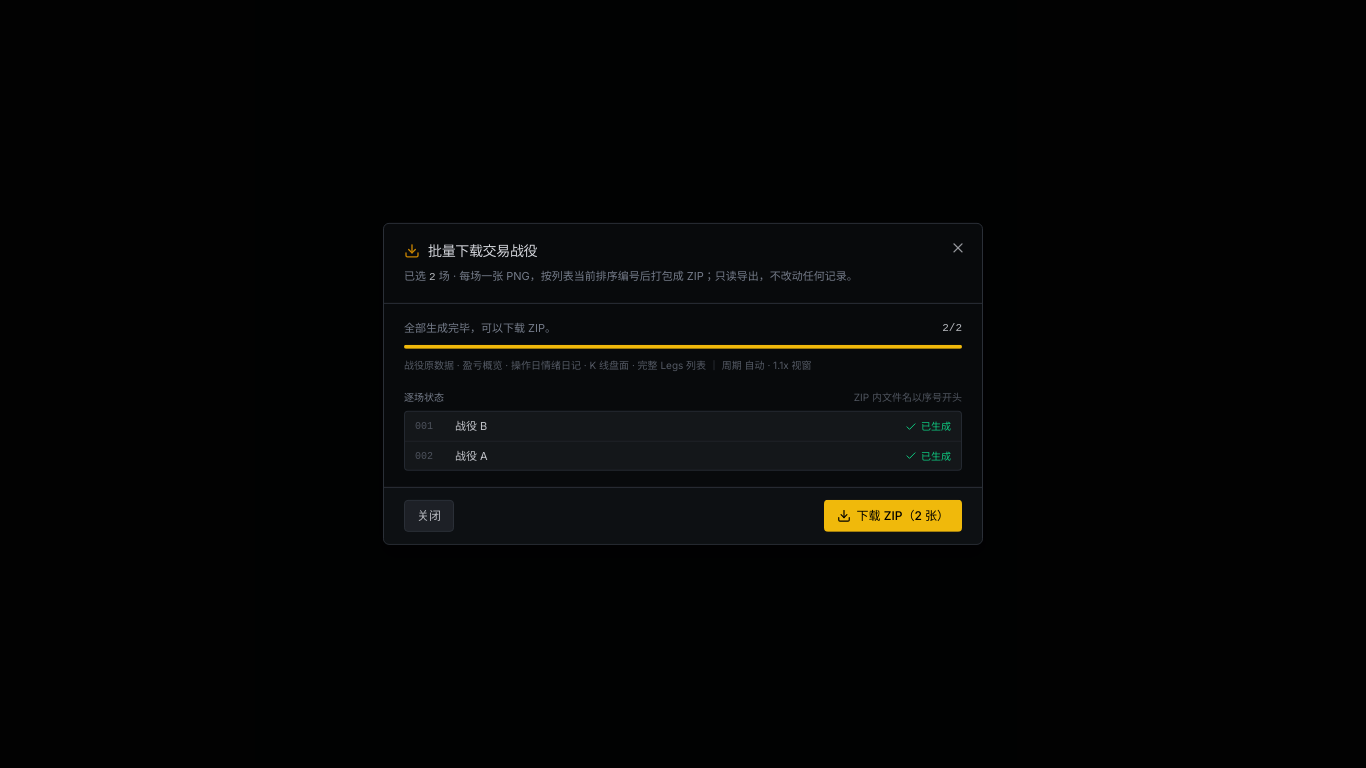
批量下载队列 › 取消打包不会发起下载，图片仍可再次下载
The image size is (1366, 768).
Earlier steps of the test are not shown.
Click the button "下载 ZIP（2 张）": coordinates (893, 516) left=824, top=500, right=962, bottom=532
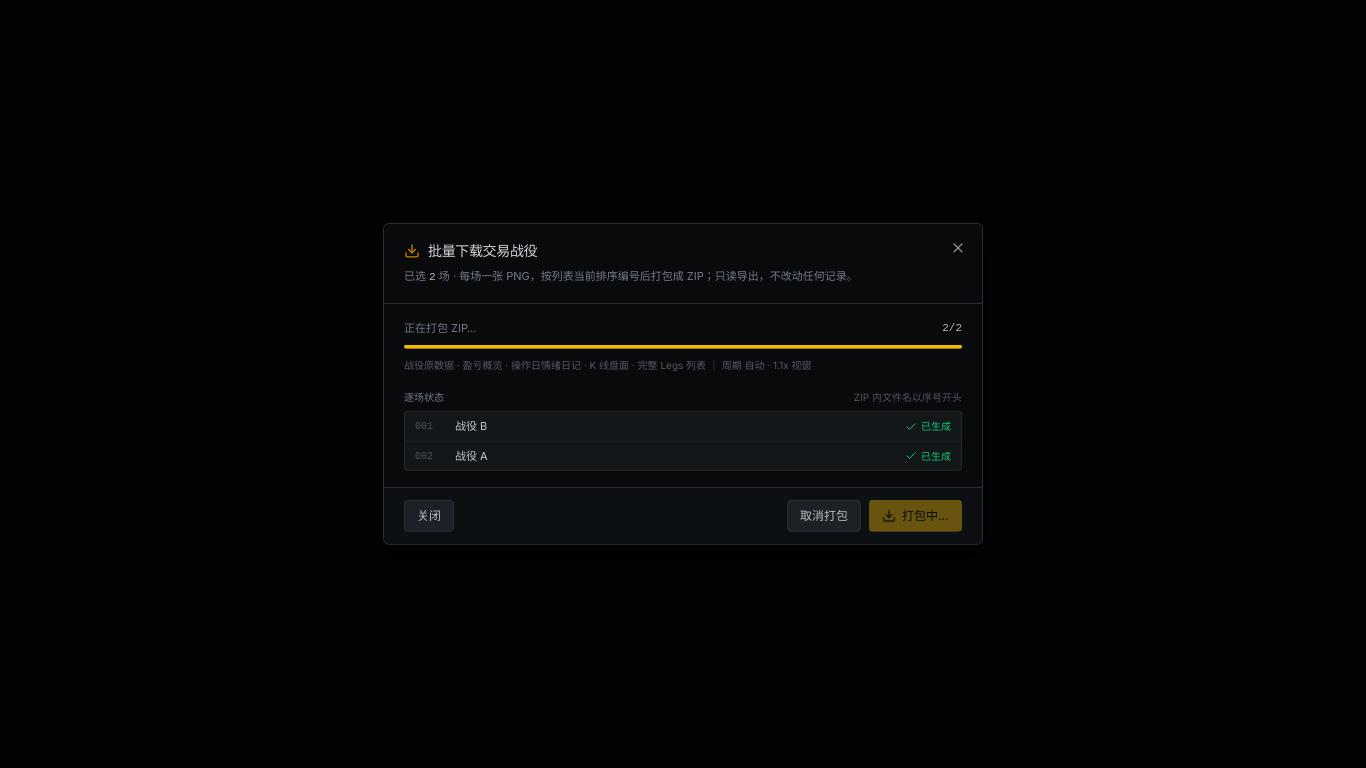
Click the button "取消打包": coordinates (824, 516) left=787, top=500, right=861, bottom=532
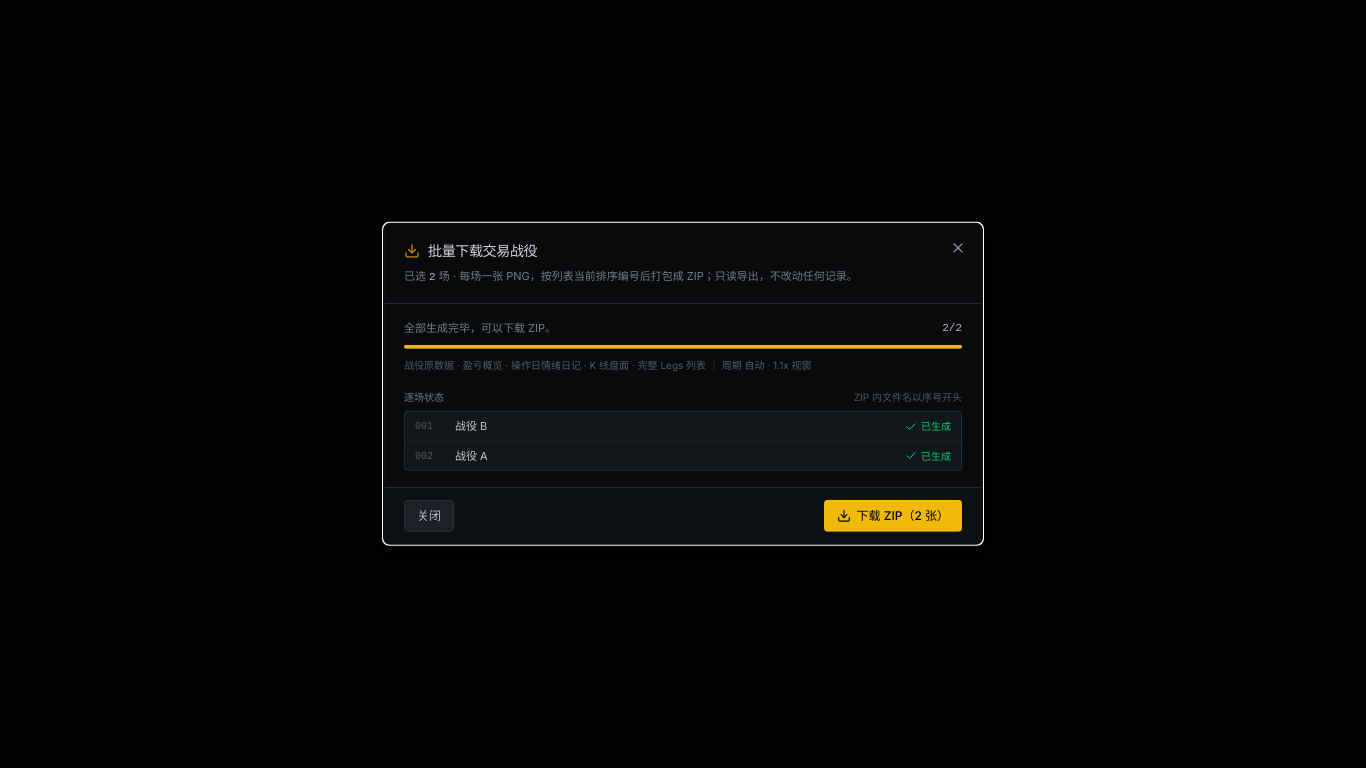
Expected: the button "下载 ZIP（2 张）" is enabled, left=824, top=500, right=962, bottom=532
